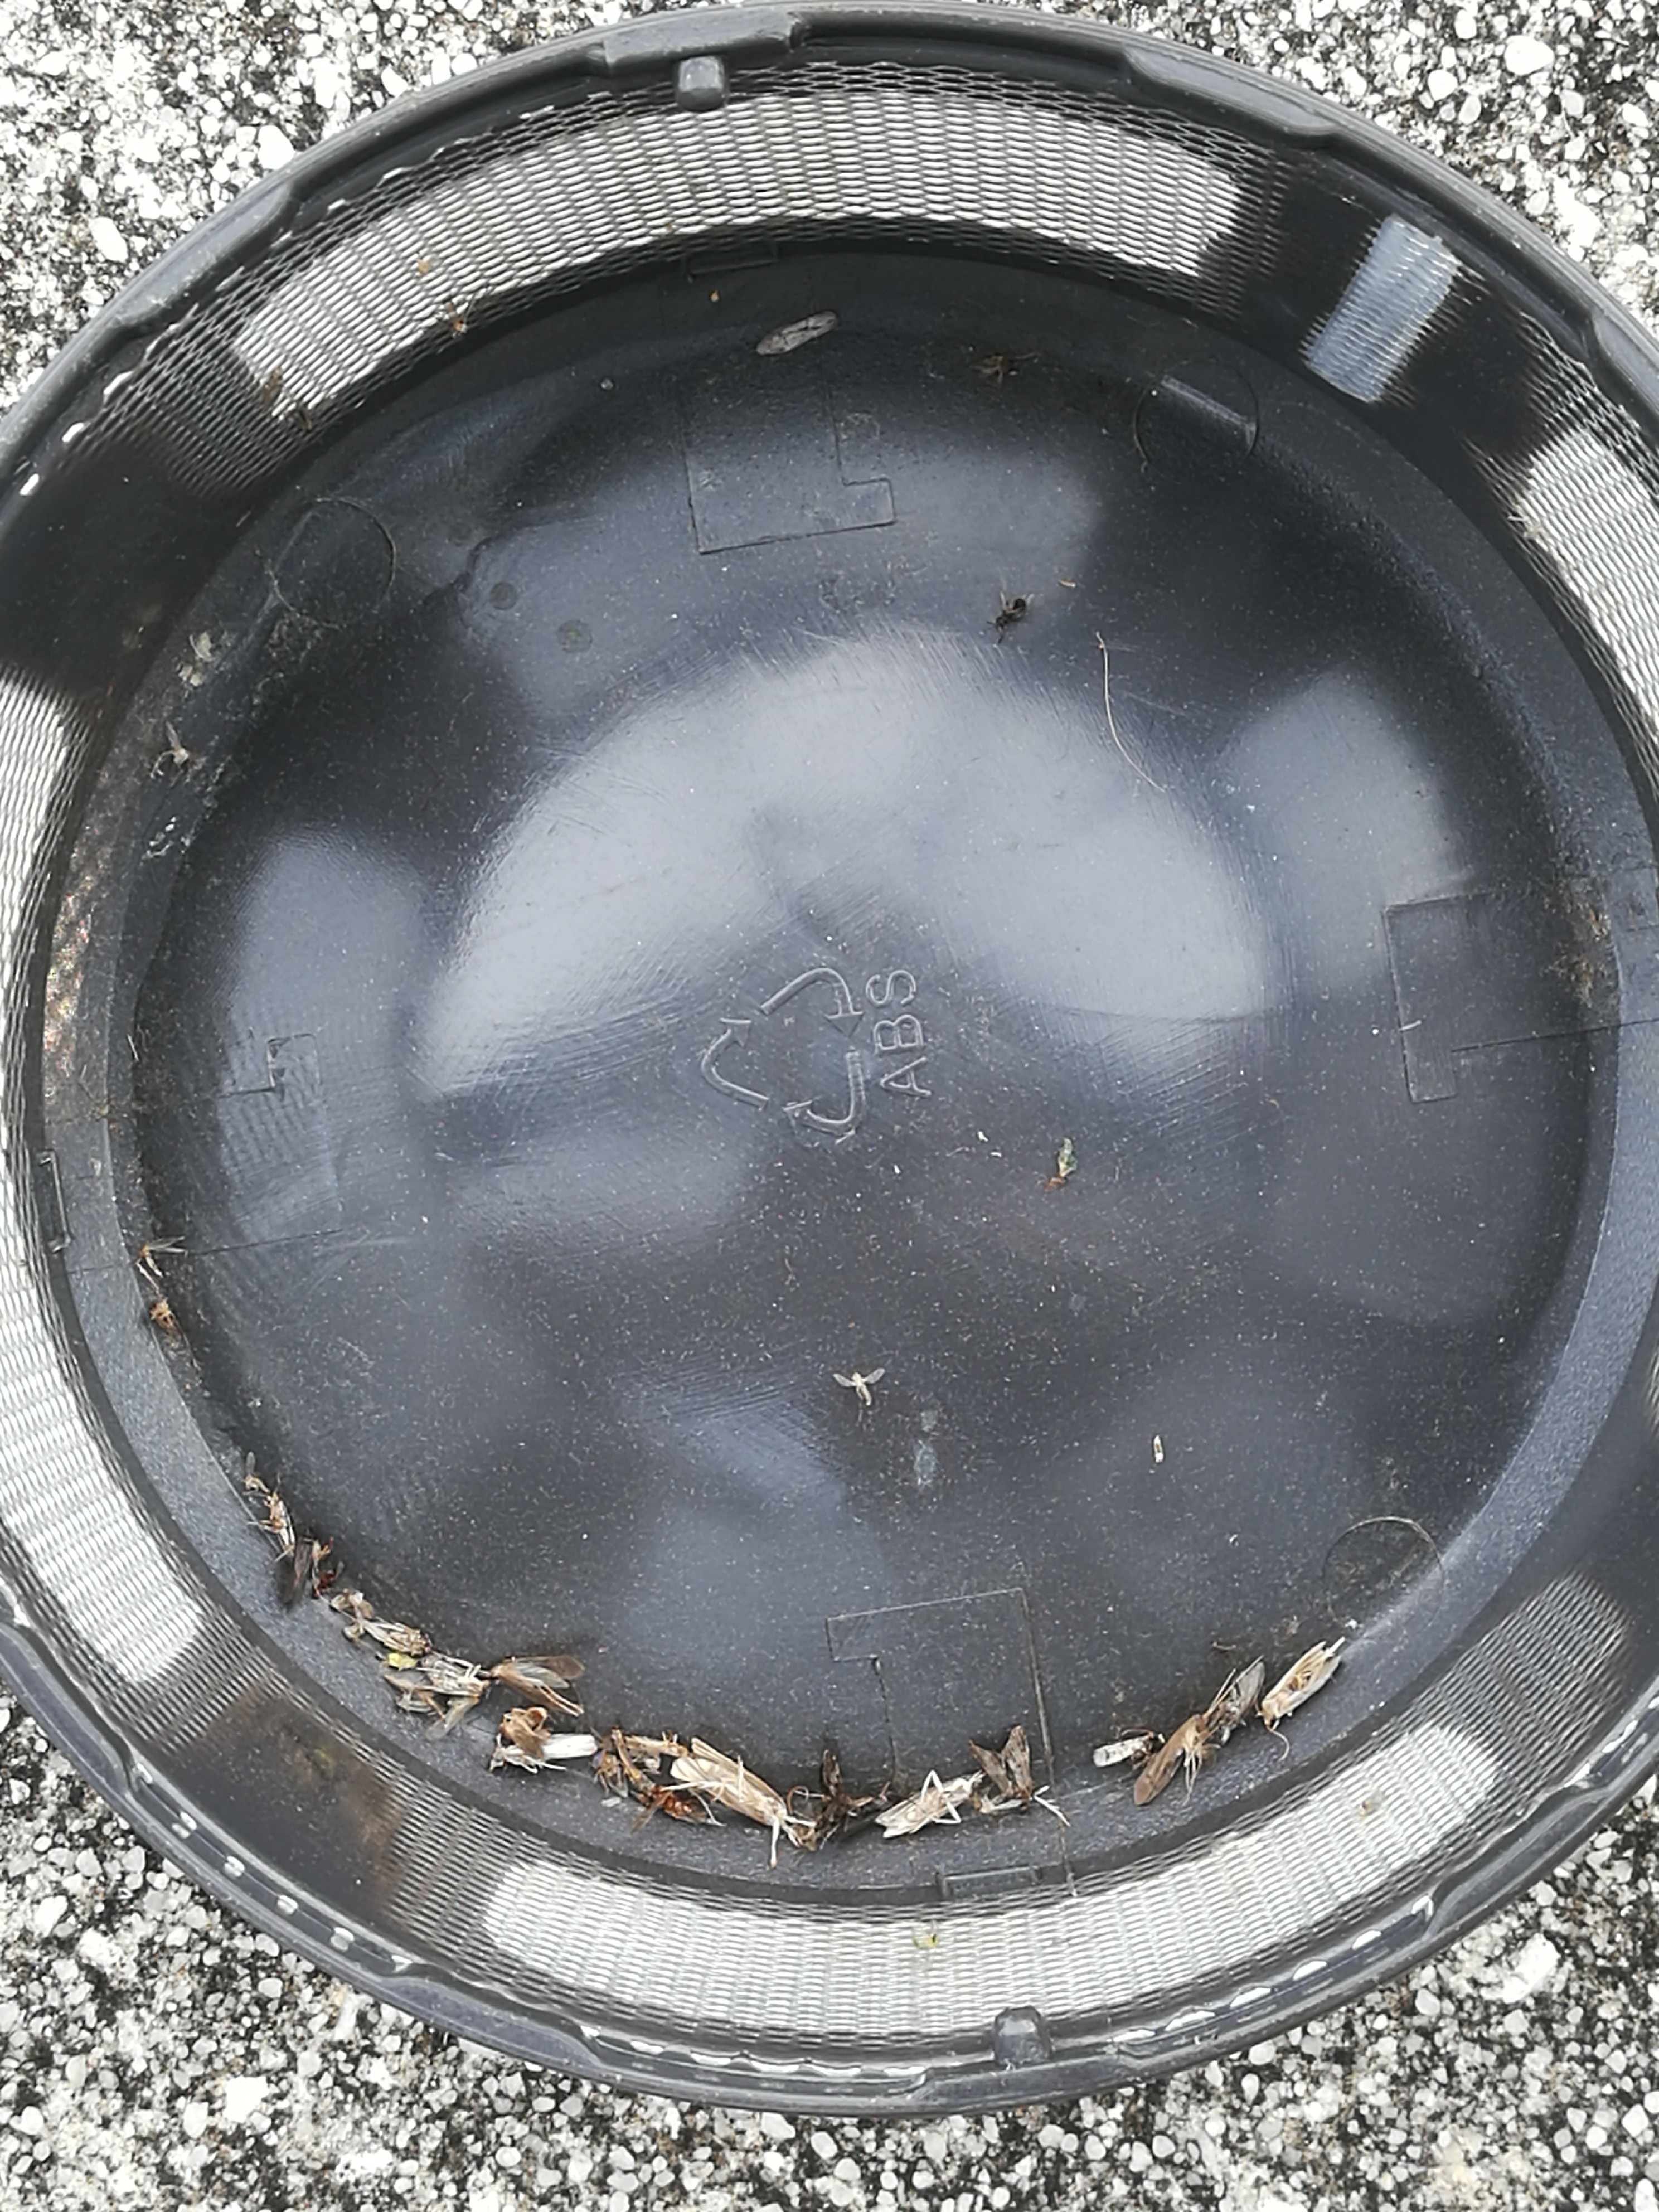mosquito: (669, 1737, 788, 1827), (1262, 1634, 1347, 1719), (1133, 1712, 1202, 1808), (875, 1778, 974, 1839)
moth: (969, 1726, 1030, 1813), (493, 1658, 582, 1716), (1220, 1660, 1265, 1745), (422, 1656, 483, 1696)
